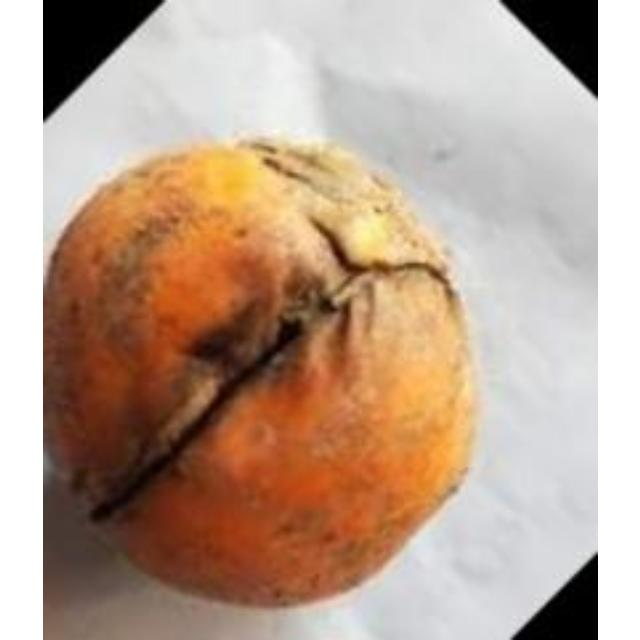damaged: (42, 130, 485, 613)
